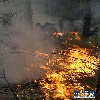fire: (29, 32, 100, 100)
